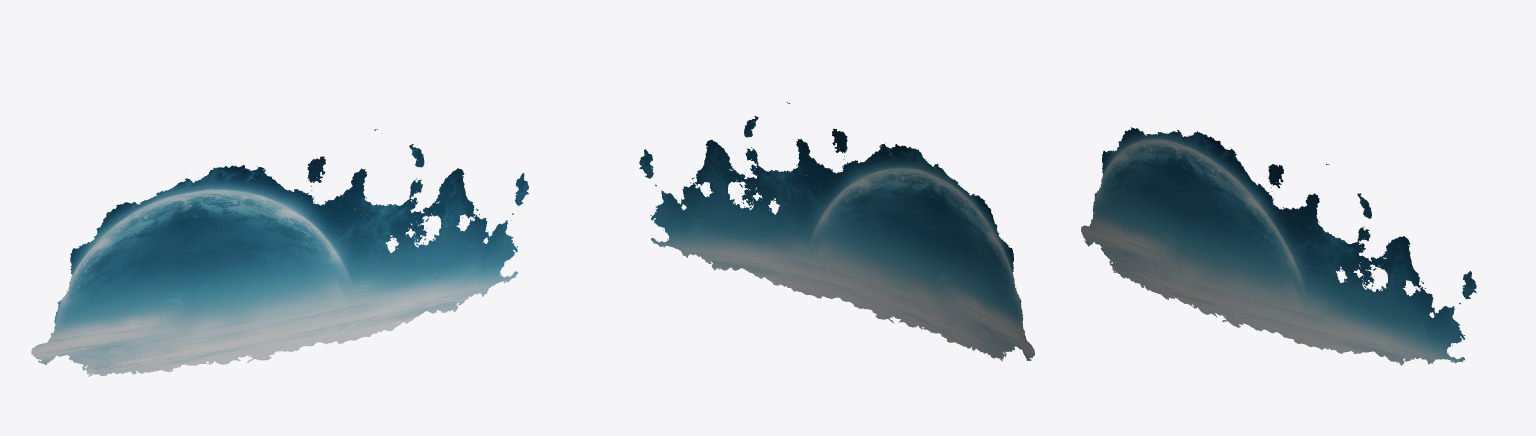
Rendered from cloud3.fbx.
The picture shows the model from 3 angles, left to right: view 1: azimuth 30°, elevation 25°; view 2: azimuth 150°, elevation 25°; view 3: azimuth 330°, elevation 25°; orthographic projection. The views are drawn at different scales.
Visible parts, largest first — view 1: pCylinder6; view 2: pCylinder6; view 3: pCylinder6.
Part boxes in pixels (left/top/right/bottom): pCylinder6: left=31, top=129, right=528, bottom=376; pCylinder6: left=639, top=102, right=1034, bottom=361; pCylinder6: left=1081, top=127, right=1476, bottom=365.
Size of the model in its own units: 420 by 231 by 56.79.
1 material, 1 textured.
